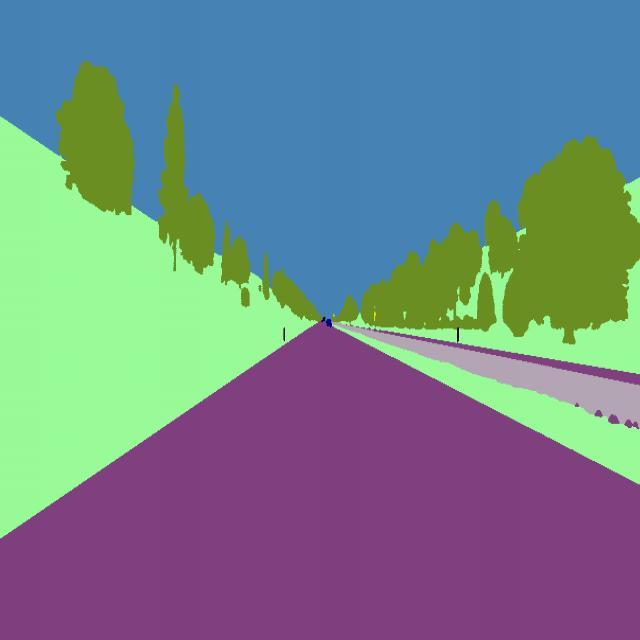safe: (324, 313, 336, 332)
